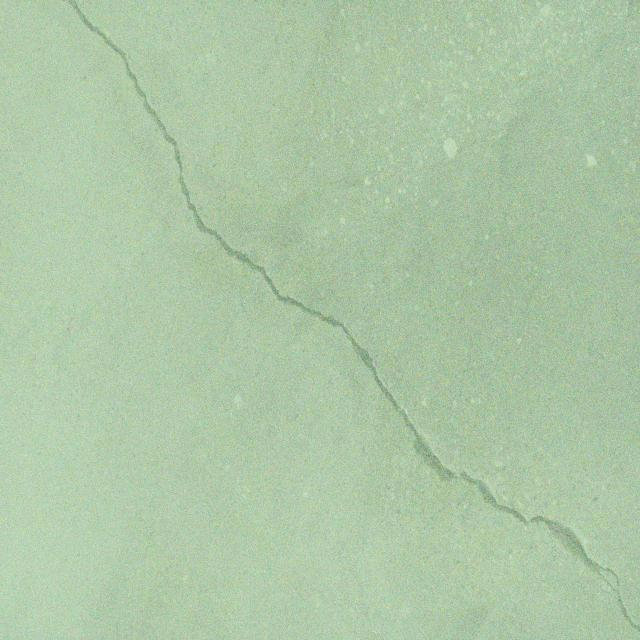crack: (62, 0, 640, 633), (622, 584, 640, 608)
